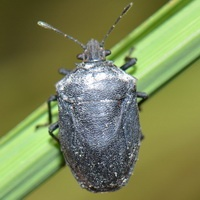insect: (45, 0, 166, 47), (23, 166, 128, 199)
